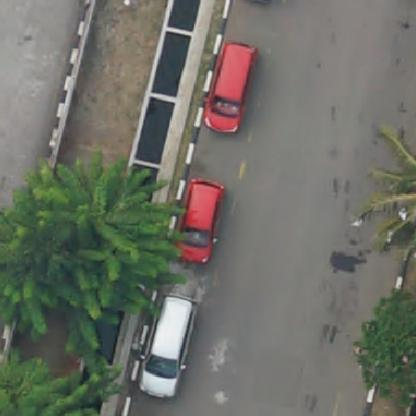car: (143, 291, 201, 404), (209, 40, 256, 136), (180, 178, 226, 258)
